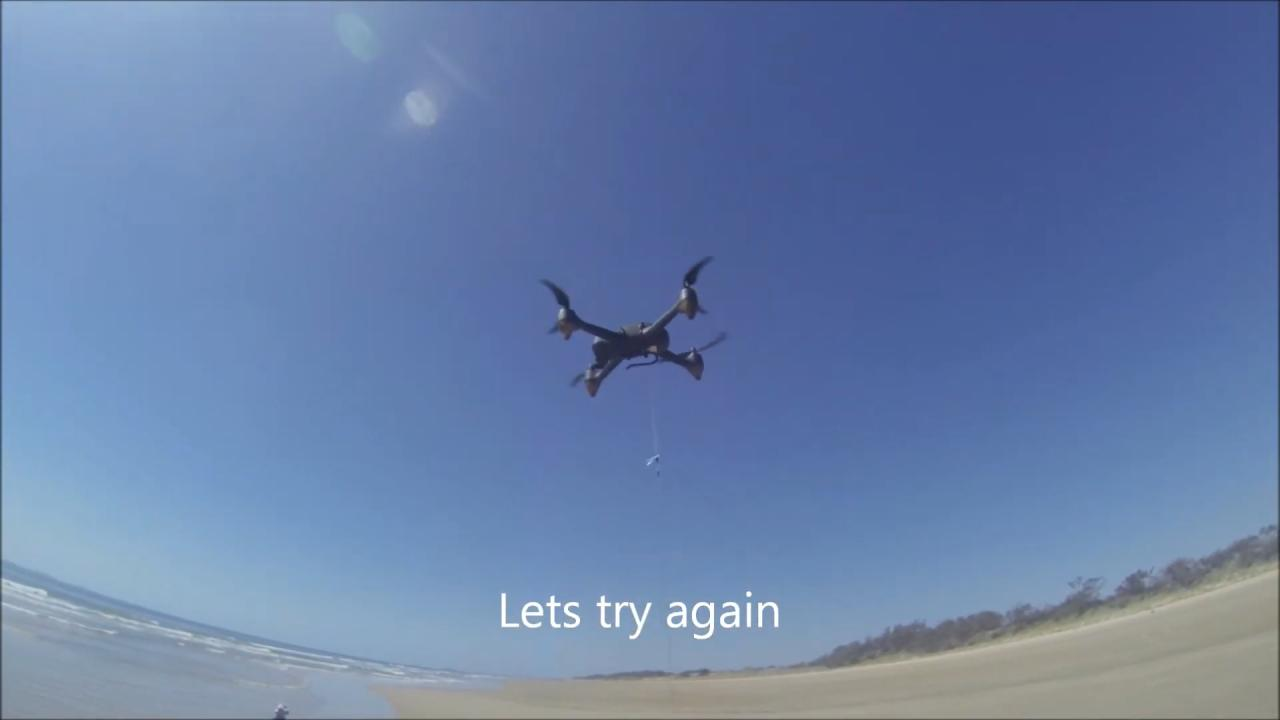Drone: (534, 245, 737, 405)
